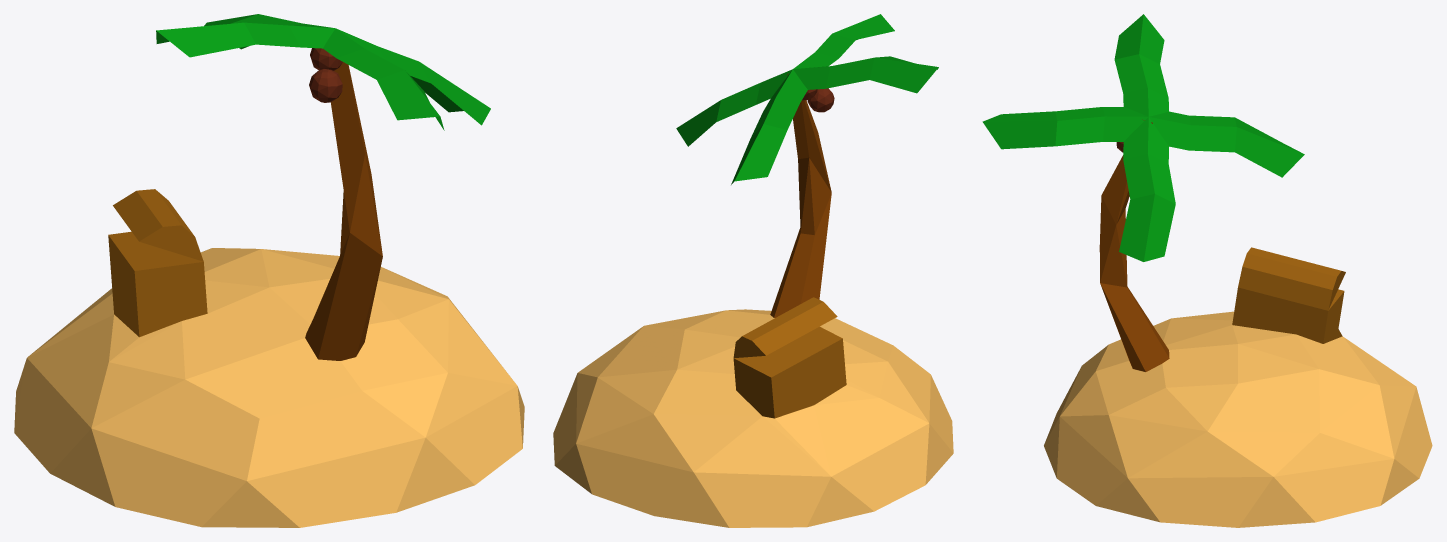
Rendered from island.glb.
3 renders of one model, left to right at view 1: azimuth 30°, elevation 25°; view 2: azimuth 150°, elevation 25°; view 3: azimuth 270°, elevation 25°, orthographic. The views are drawn at different scales.
Parts seen in each view (by area): view 1: island; view 2: island; view 3: island.
Part boxes in pixels (box(x1,y1,x2,y2)): island: box(14, 14, 524, 527); island: box(553, 14, 953, 527); island: box(982, 14, 1432, 527).
Size of the model in its own units: 3.12 by 3.24 by 3.61.
